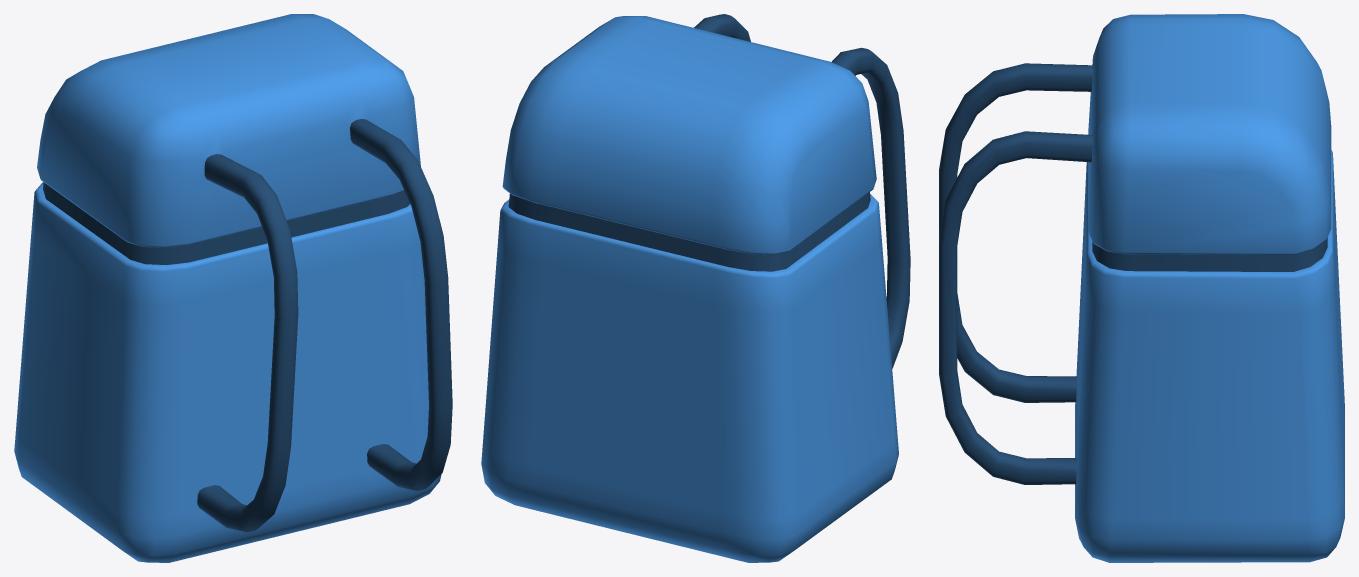
Rendered from Villager Bag.fbx.
3 views of the same model, side by side, from view 1: azimuth 30°, elevation 25°; view 2: azimuth 150°, elevation 25°; view 3: azimuth 270°, elevation 25° (orthographic). The views are drawn at different scales.
Parts seen in each view (by area): view 1: Plane.002; view 2: Plane.002; view 3: Plane.002.
Boxes of the visible parts, <box> form: Plane.002: <box>14,14,452,562</box>; Plane.002: <box>481,14,910,562</box>; Plane.002: <box>939,14,1344,562</box>.
Size of the model in its own units: 243 by 315 by 267.
